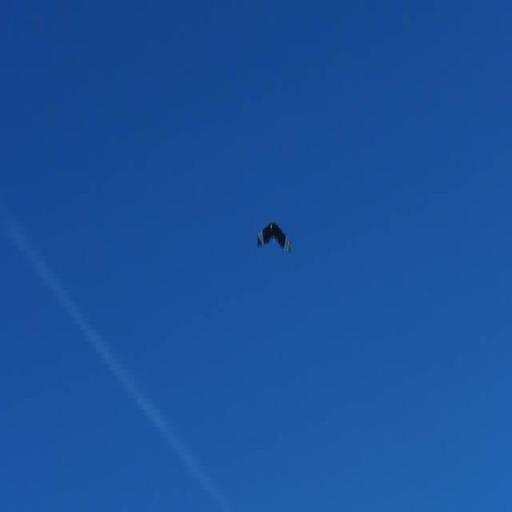uav: (254, 211, 297, 264)
